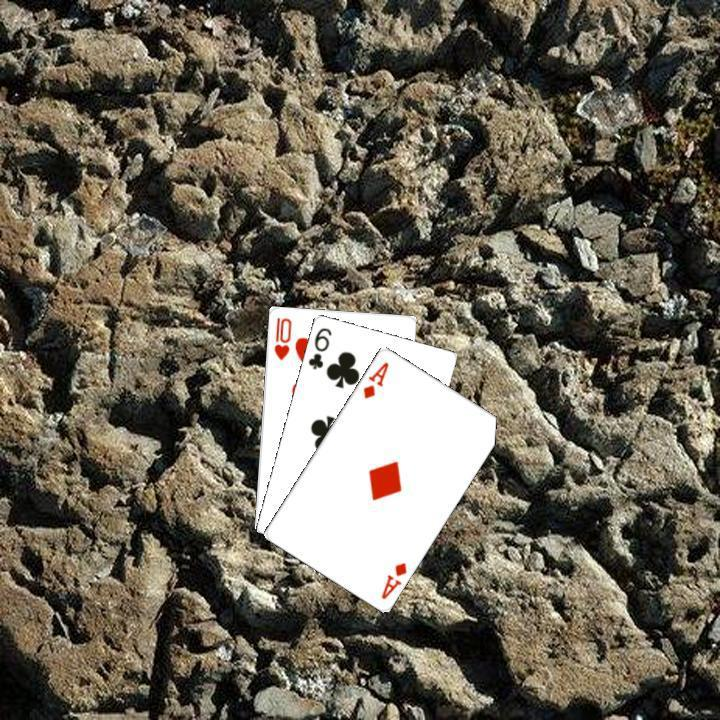10: (269, 313, 293, 362)
6: (303, 323, 334, 371)
A: (376, 557, 409, 601), (358, 357, 391, 400)
